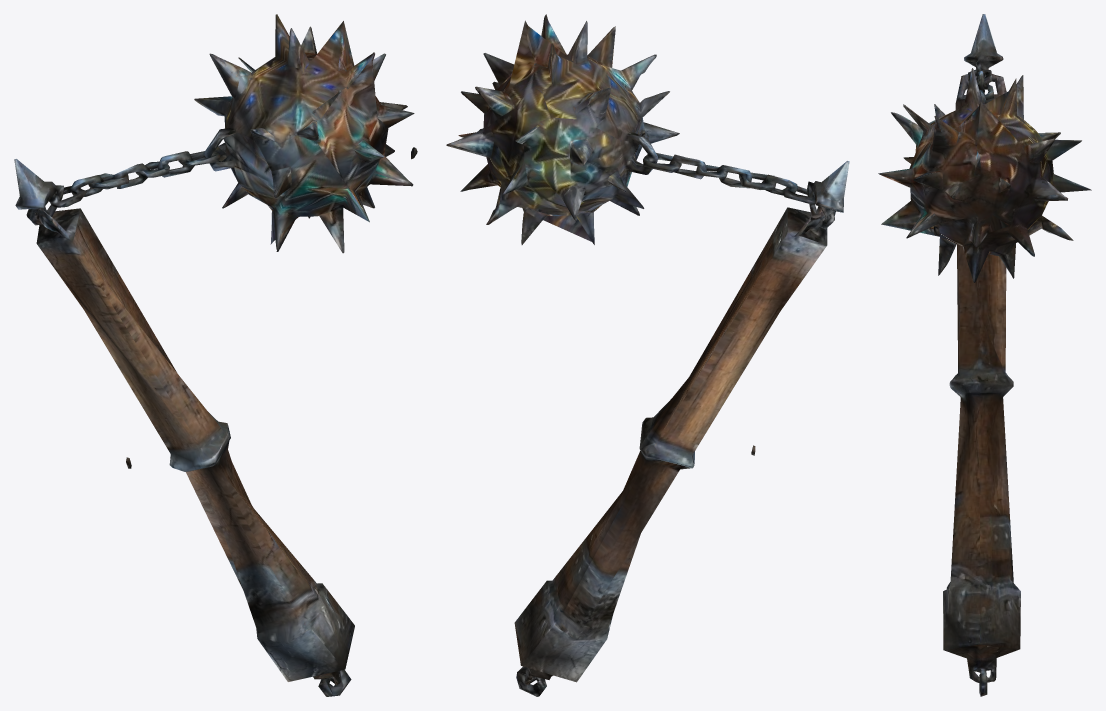
Rendered from 1555_flail.glb.
3 renders of one model, left to right at view 1: azimuth 30°, elevation 25°; view 2: azimuth 150°, elevation 25°; view 3: azimuth 270°, elevation 25°, orthographic. The views are drawn at different scales.
Visible parts, largest first — view 1: Model; view 2: Model; view 3: Model.
Part boxes in pixels (x1,y1,x2,y2): Model: (14, 14, 417, 696); Model: (446, 14, 849, 696); Model: (878, 14, 1091, 696).
Bounding box in the file's own units: 0.579 × 1 × 0.3196.
1 material, 1 textured.
